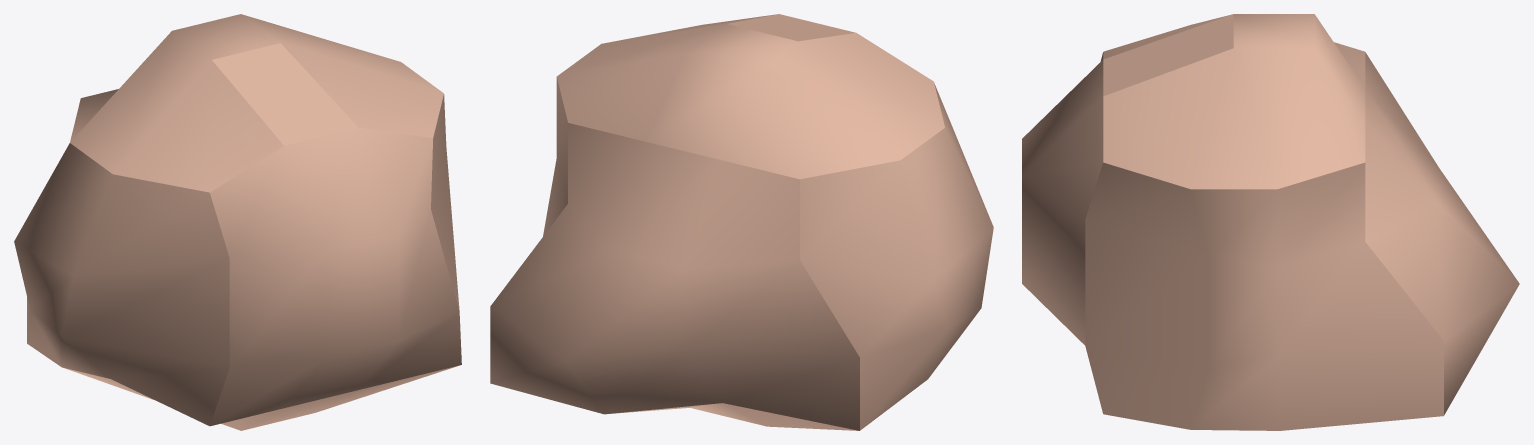
File: DustCloud_particleMesh_Export.fbx
3 renders of one model, left to right at view 1: azimuth 30°, elevation 25°; view 2: azimuth 150°, elevation 25°; view 3: azimuth 270°, elevation 25°, orthographic. The views are drawn at different scales.
Visible parts, largest first — view 1: pCube1; view 2: pCube1; view 3: pCube1.
Part boxes in pixels (left/top/right/bottom): pCube1: left=14, top=14, right=461, bottom=430; pCube1: left=490, top=14, right=993, bottom=430; pCube1: left=1022, top=14, right=1519, bottom=430.
Bounding box in the file's own units: 0.9998 × 0.8831 × 1.1.
